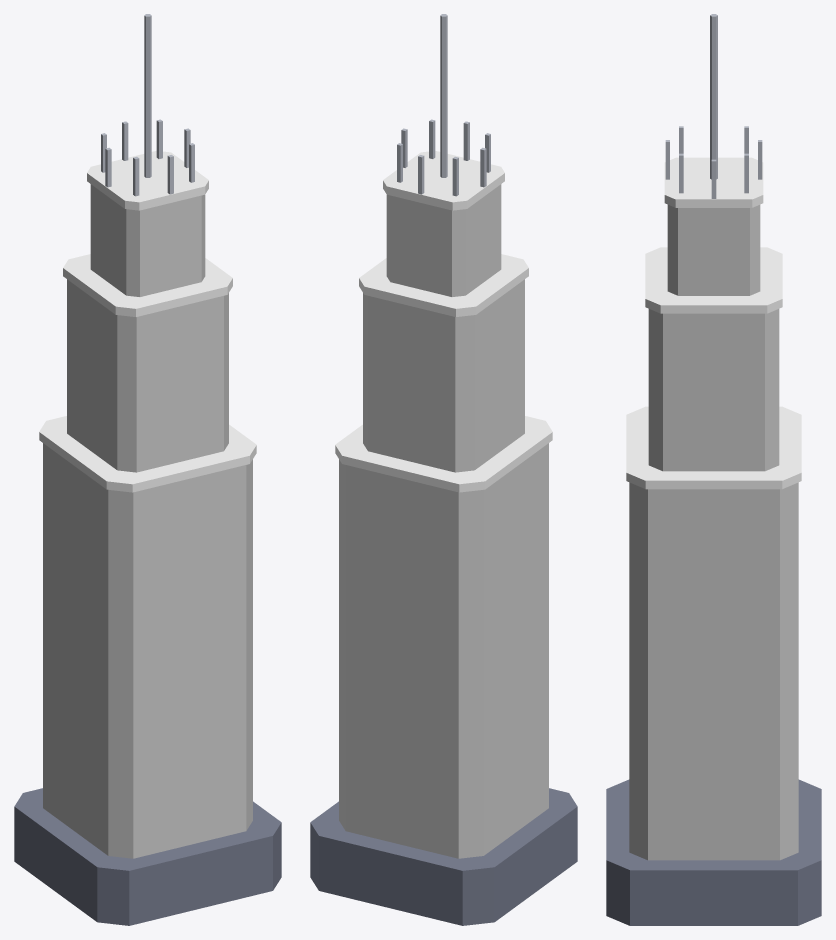
The model's file is Race_tower1.fbx.
3 renders of one model, left to right at view 1: azimuth 30°, elevation 25°; view 2: azimuth 150°, elevation 25°; view 3: azimuth 270°, elevation 25°, orthographic.
Visible parts, largest first — view 1: Race_tower1; view 2: Race_tower1; view 3: Race_tower1.
Boxes of the visible parts, x1=… form: Race_tower1: x1=14, y1=14, x2=281, y2=925; Race_tower1: x1=310, y1=14, x2=577, y2=925; Race_tower1: x1=606, y1=14, x2=821, y2=925.
Size of the model in its own units: 28 by 124 by 28.
